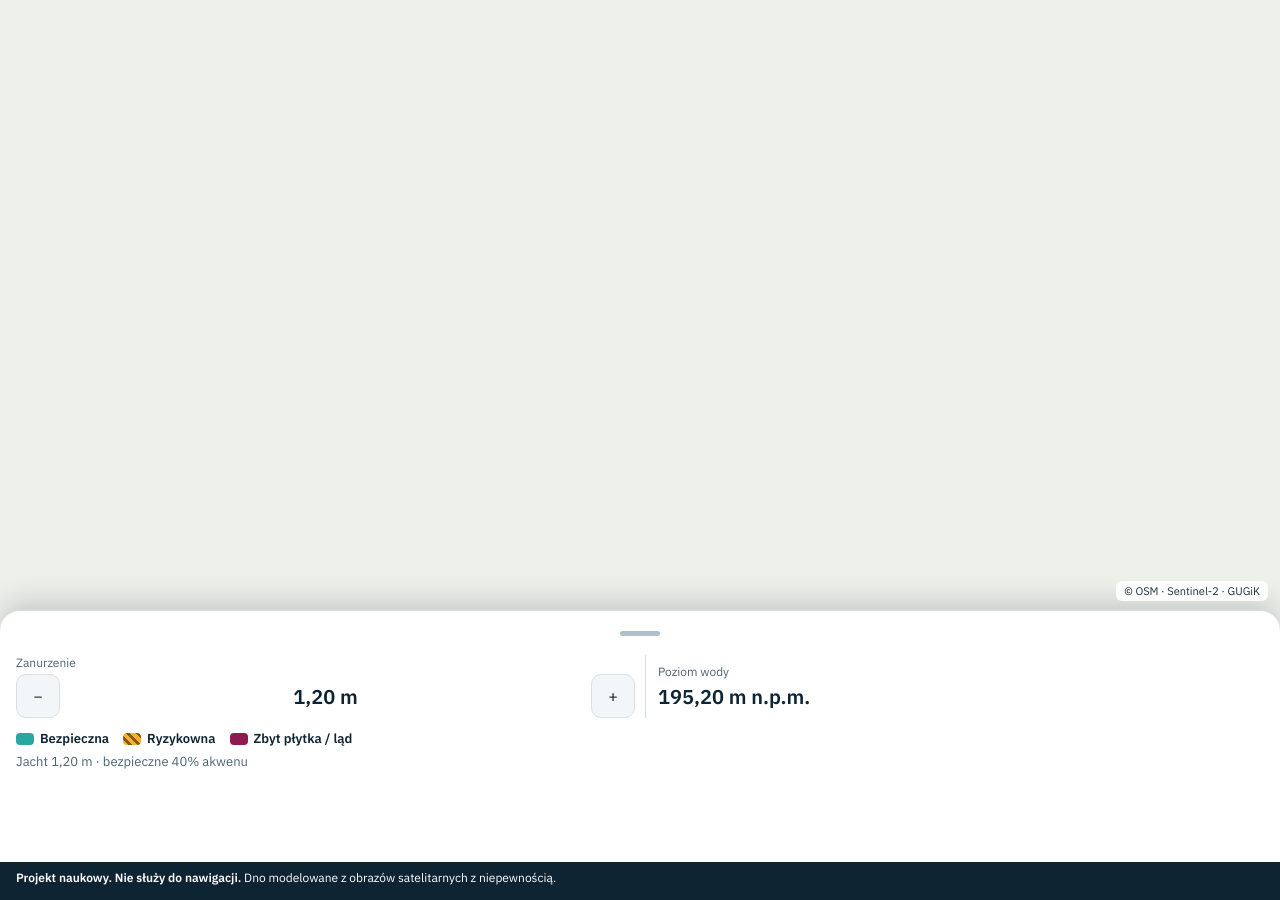
Scenario: BottomSheet › handle toggles and aria-controls points at the sheet body
Click the button named "Rozwiń panel parametrów" at point(640, 633), box left=0, top=611, right=1279, bottom=655
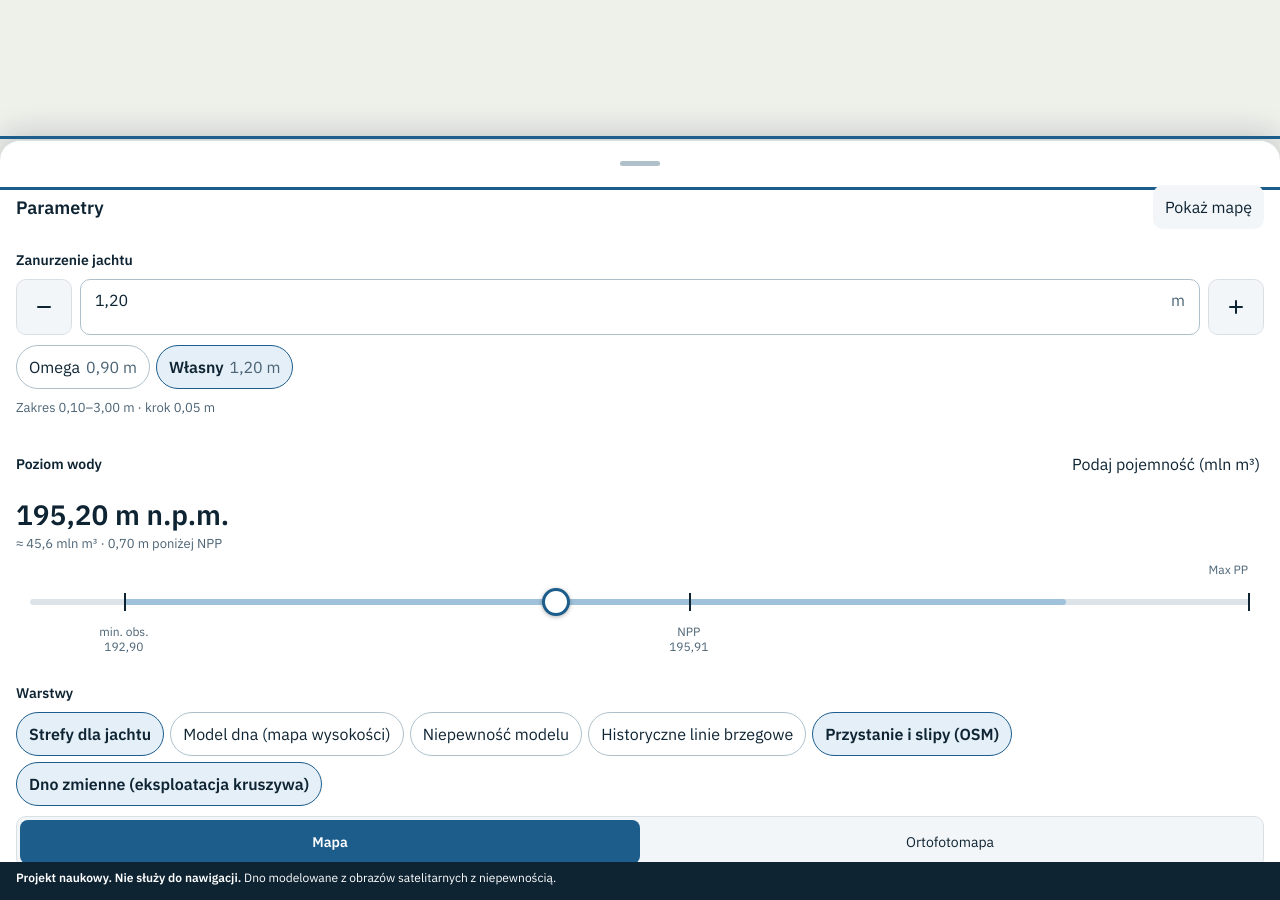
Expected: the button named "Zwiń panel" is expanded
Click the button named "Zwiń panel" at point(640, 163), box left=0, top=141, right=1279, bottom=185
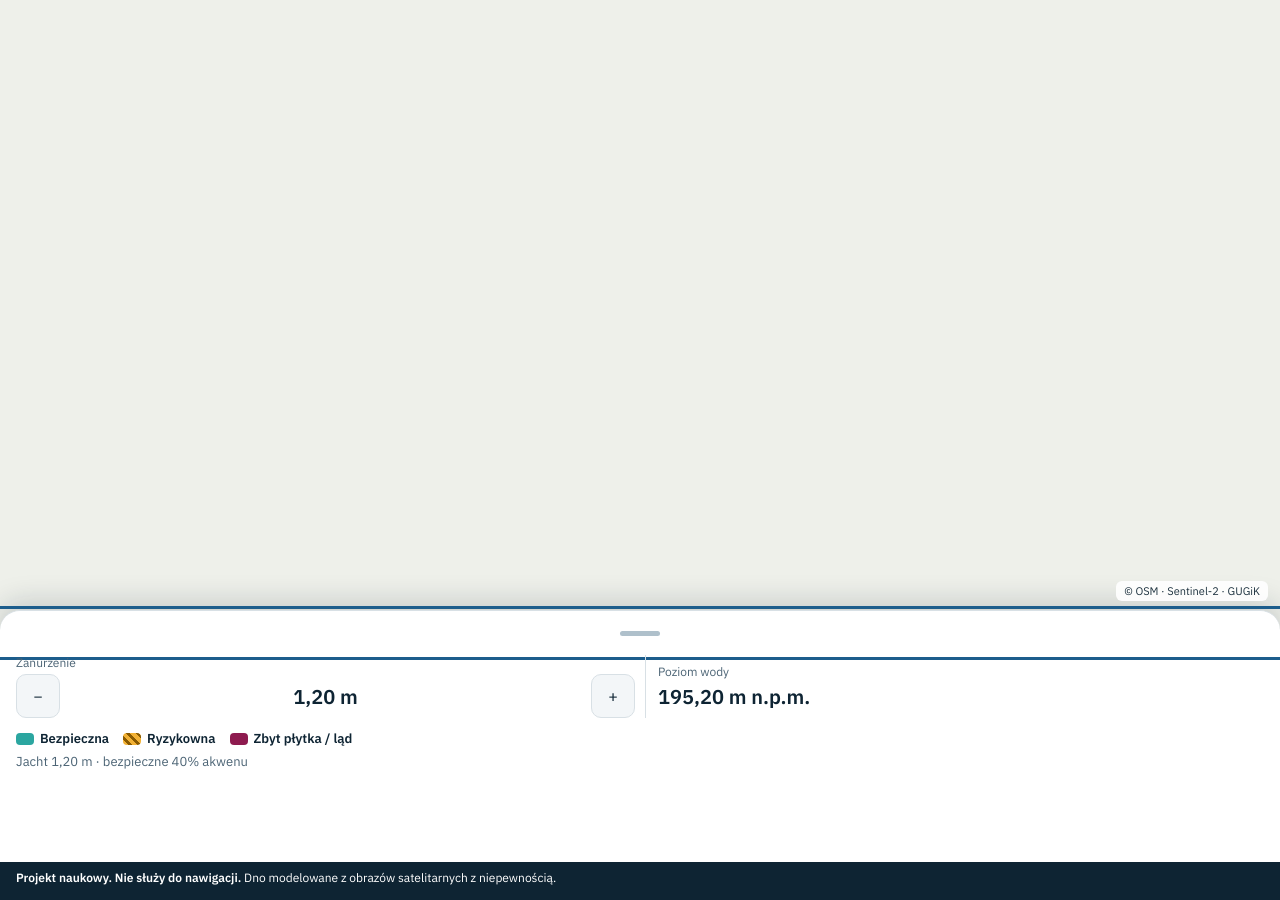
Expected: the button named "Rozwiń panel parametrów" is collapsed, left=0, top=611, right=1279, bottom=655
